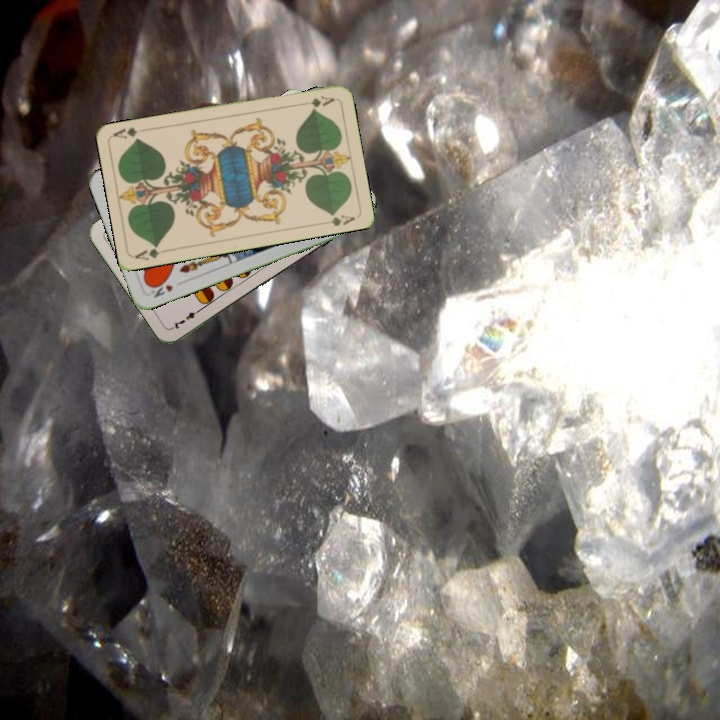E7: (168, 304, 205, 332)
GA: (296, 92, 337, 110), (132, 241, 162, 263)
HK: (146, 277, 176, 300)
